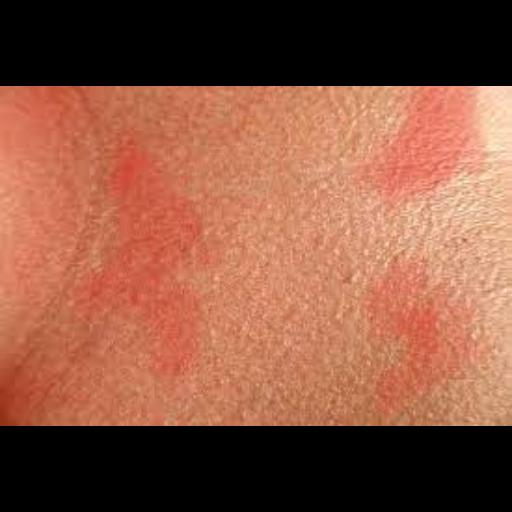Skin_Lesion: (82, 168, 212, 370), (358, 261, 482, 407), (366, 88, 490, 208)
